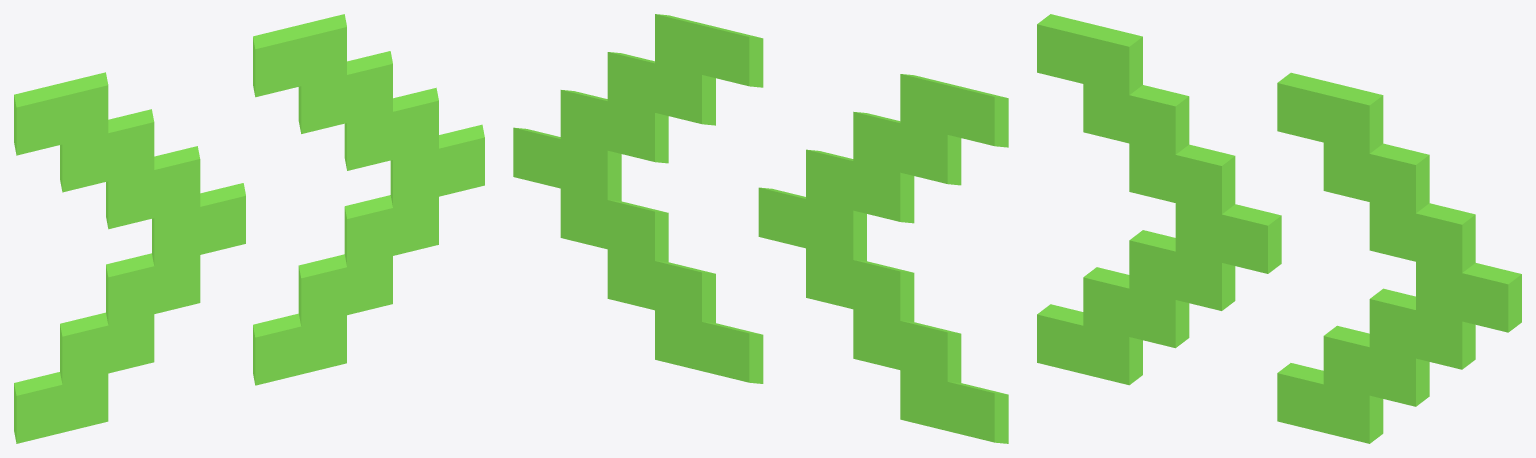
The model's file is Exit_Chevron.gltf.
3 views of the same model, side by side, from view 1: azimuth 30°, elevation 25°; view 2: azimuth 150°, elevation 25°; view 3: azimuth 330°, elevation 25° (orthographic). The views are drawn at different scales.
Parts seen in each view (by area): view 1: Exit_Chevron_baked; view 2: Exit_Chevron_baked; view 3: Exit_Chevron_baked.
Boxes of the visible parts, x1=… form: Exit_Chevron_baked: x1=14, y1=14, x2=484, y2=443; Exit_Chevron_baked: x1=513, y1=14, x2=1008, y2=443; Exit_Chevron_baked: x1=1037, y1=14, x2=1521, y2=443.
Bounding box in the file's own units: 1.03 × 0.712 × 0.03.
